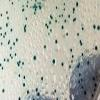Blue_green: (36, 0, 41, 10), (33, 2, 37, 11), (96, 24, 100, 32), (94, 44, 98, 52), (36, 91, 41, 97), (40, 75, 44, 82), (33, 55, 37, 62), (72, 7, 76, 14), (92, 23, 96, 30), (91, 92, 95, 99), (54, 39, 59, 44), (43, 44, 47, 50), (23, 25, 26, 33), (33, 10, 37, 16), (52, 58, 56, 64), (65, 31, 69, 37), (75, 1, 79, 7), (73, 16, 76, 24), (86, 60, 90, 66), (93, 87, 97, 93), (94, 82, 98, 88), (77, 79, 81, 85), (80, 77, 84, 83), (61, 61, 64, 68), (84, 89, 87, 96), (6, 15, 10, 20), (5, 23, 9, 28), (6, 58, 10, 63), (47, 31, 51, 36), (48, 20, 52, 25), (78, 39, 82, 44), (78, 72, 82, 77), (92, 76, 96, 81), (0, 25, 3, 31), (9, 52, 12, 58), (2, 88, 5, 94), (17, 61, 20, 67), (35, 87, 38, 93), (61, 24, 64, 30), (80, 41, 83, 47), (81, 84, 84, 90), (55, 96, 59, 100), (30, 5, 34, 9), (58, 14, 62, 18), (0, 12, 3, 17), (6, 10, 9, 15), (0, 32, 3, 37), (4, 31, 7, 36), (9, 46, 12, 51), (21, 8, 24, 13), (3, 57, 6, 62), (14, 52, 17, 57), (1, 66, 4, 71), (53, 89, 56, 94), (24, 23, 27, 28), (46, 24, 49, 29), (49, 28, 52, 33), (61, 12, 64, 17), (64, 18, 67, 23), (76, 32, 79, 37), (81, 26, 84, 31), (68, 64, 71, 69), (70, 59, 73, 64), (71, 54, 74, 59), (81, 52, 84, 57), (77, 64, 80, 69), (11, 1, 14, 5), (10, 28, 13, 32), (21, 4, 24, 8), (26, 4, 29, 8), (0, 62, 2, 68), (18, 96, 21, 100), (23, 82, 25, 88), (27, 89, 29, 95), (25, 16, 27, 22), (44, 23, 47, 27), (51, 16, 54, 20), (49, 14, 52, 18), (63, 7, 66, 11), (63, 2, 66, 6), (68, 13, 70, 19), (70, 47, 72, 53), (78, 62, 81, 66), (13, 41, 15, 46), (11, 55, 13, 60), (19, 59, 21, 64), (22, 61, 24, 66), (18, 73, 20, 78), (23, 74, 25, 79), (55, 19, 57, 24), (56, 5, 58, 10), (26, 0, 29, 3), (7, 0, 11, 2), (1, 42, 3, 46), (16, 38, 18, 42), (3, 35, 5, 38), (32, 97, 34, 100), (30, 0, 33, 2), (34, 0, 37, 2), (9, 39, 10, 44), (8, 41, 9, 45), (18, 0, 20, 2)
